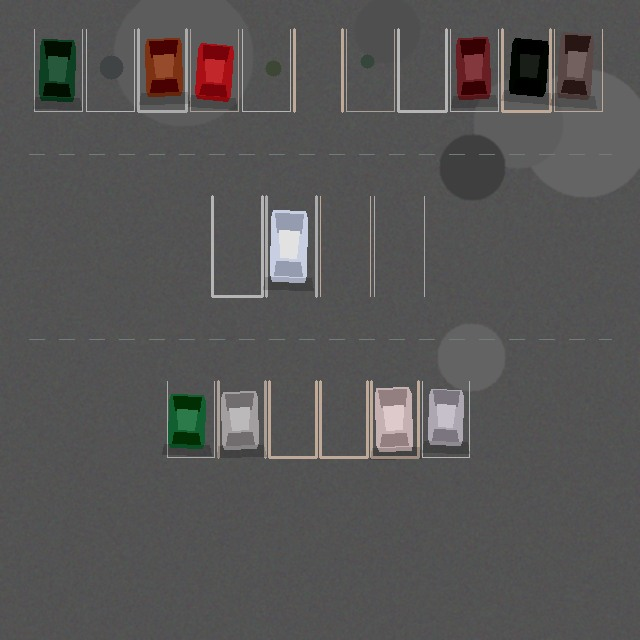space-empty: (212, 196, 262, 296), (320, 196, 370, 296), (374, 196, 424, 296), (86, 29, 134, 111), (242, 29, 290, 111), (294, 29, 342, 111), (346, 29, 394, 111), (398, 29, 446, 111), (269, 381, 316, 457), (320, 381, 367, 457)
space-occupied: (266, 196, 316, 296), (34, 29, 82, 111), (138, 29, 186, 111), (190, 29, 238, 111), (450, 29, 498, 111), (502, 29, 550, 111), (554, 29, 602, 111), (167, 381, 214, 457), (218, 381, 265, 457), (371, 381, 418, 457), (422, 381, 469, 457)
